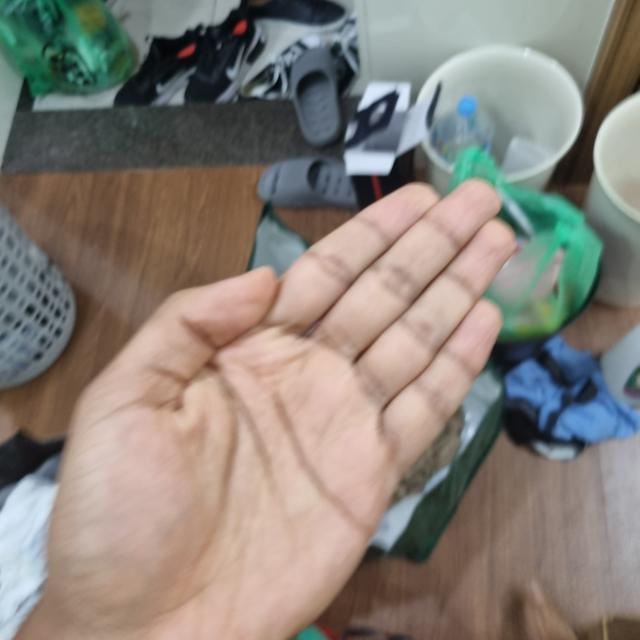Paper: (38, 270, 402, 640)
